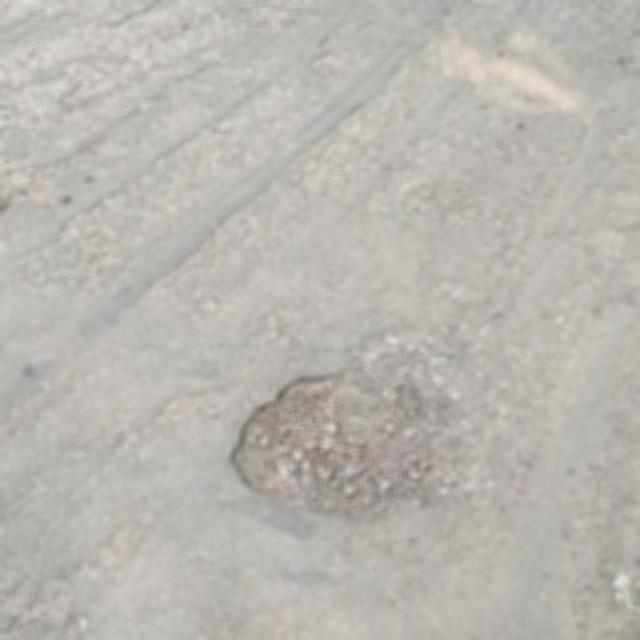road-pothole: (218, 327, 511, 529)
